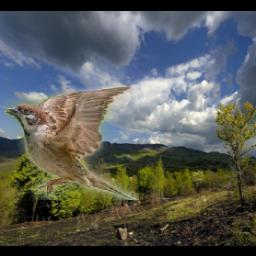Sparrow: (3, 86, 138, 200)
